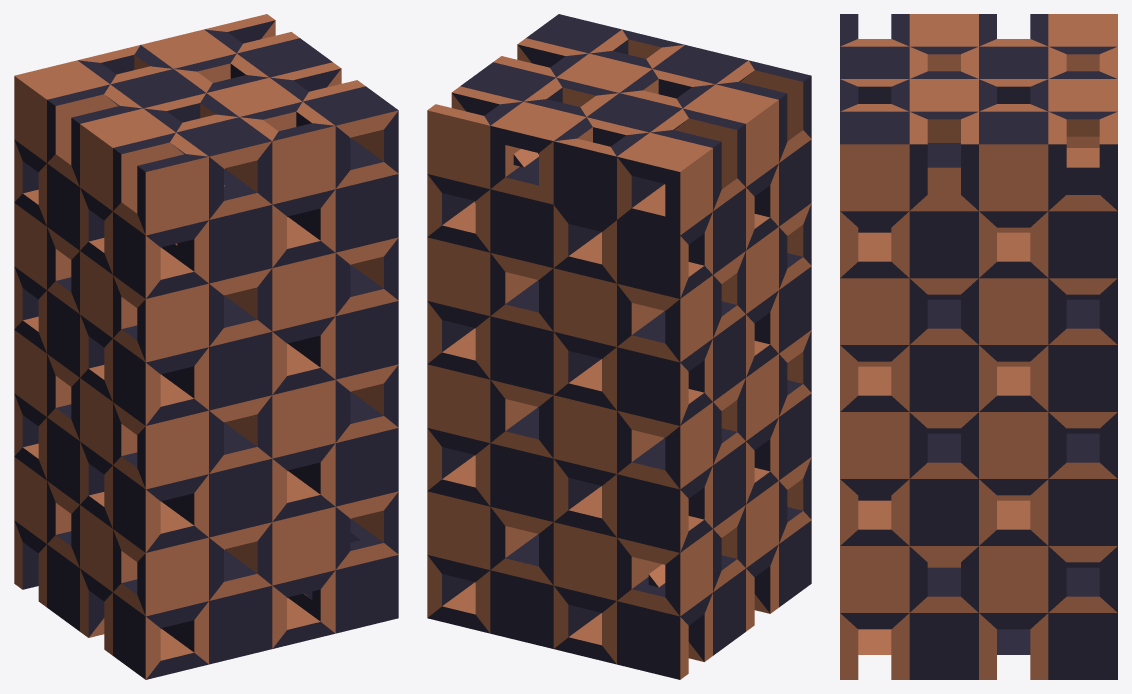
The model's file is test_shader_model.fbx.
3 views of the same model, side by side, from view 1: azimuth 30°, elevation 25°; view 2: azimuth 150°, elevation 25°; view 3: azimuth 270°, elevation 25° (orthographic). The views are drawn at different scales.
Parts seen in each view (by area): view 1: Cube; view 2: Cube; view 3: Cube.
Part boxes in pixels (x1,y1,x2,y2): Cube: [14, 14, 398, 679]; Cube: [427, 14, 811, 679]; Cube: [840, 14, 1117, 679].
Size of the model in its own units: 743 by 1425 by 670.
